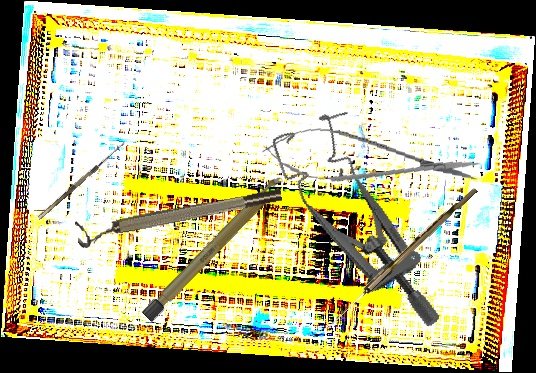Fixation Ring: (74, 184, 285, 250)
Hook Surgical: (33, 137, 127, 220)
Micro Scissor: (259, 121, 484, 199)
Scalpel Handle: (141, 172, 287, 323)
Speculum: (268, 99, 444, 356)
Surgical Spoon: (325, 183, 478, 333)
